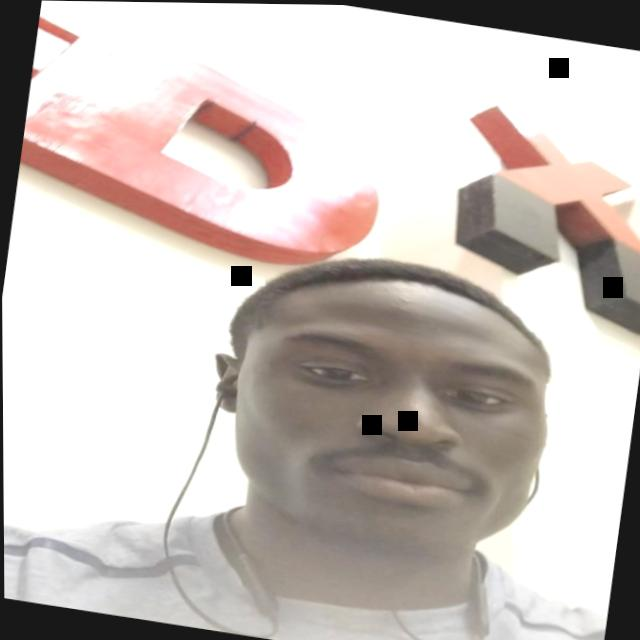NO-Mask: (209, 276, 564, 581)
